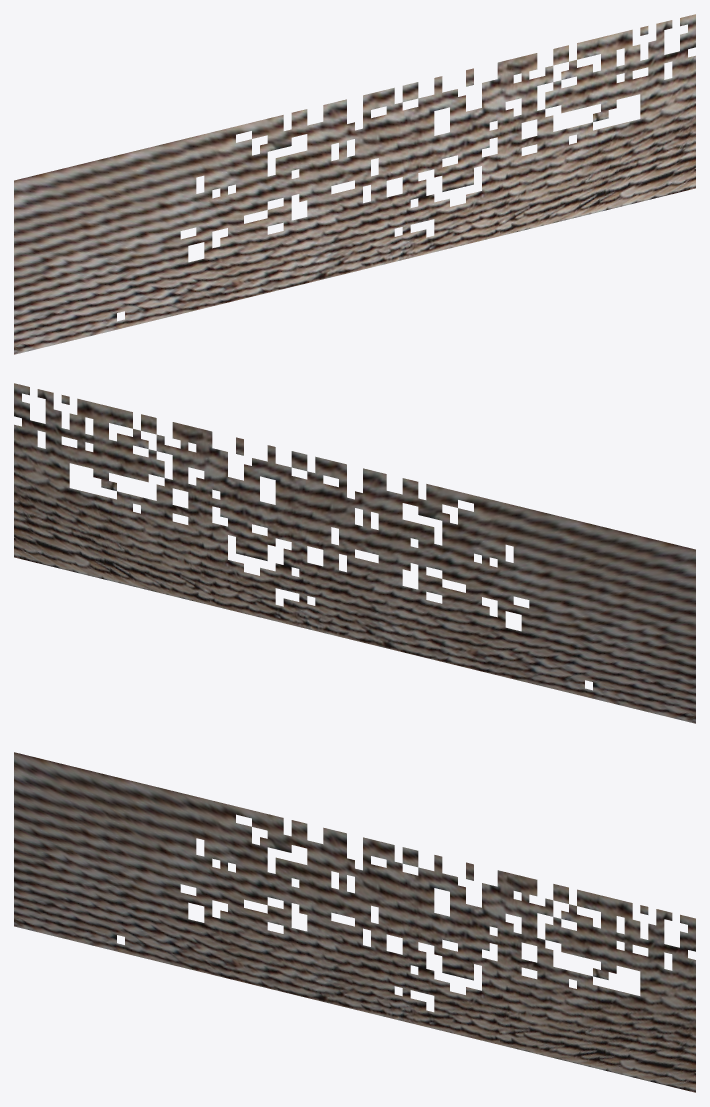
Rendered from region.obj.
The picture shows the model from 3 angles, top to bottom: view 1: azimuth 30°, elevation 25°; view 2: azimuth 150°, elevation 25°; view 3: azimuth 330°, elevation 25°; orthographic projection.
Parts seen in each view (by area): view 1: owned_material_region; view 2: owned_material_region; view 3: owned_material_region.
Part boxes in pixels (x1,y1,x2,y2): owned_material_region: [14, 14, 695, 354]; owned_material_region: [14, 383, 695, 723]; owned_material_region: [14, 752, 695, 1092].
Size of the model in its own units: 0.9829 by 0.24 by 0.
Materials: 1 (1 with a texture image).
